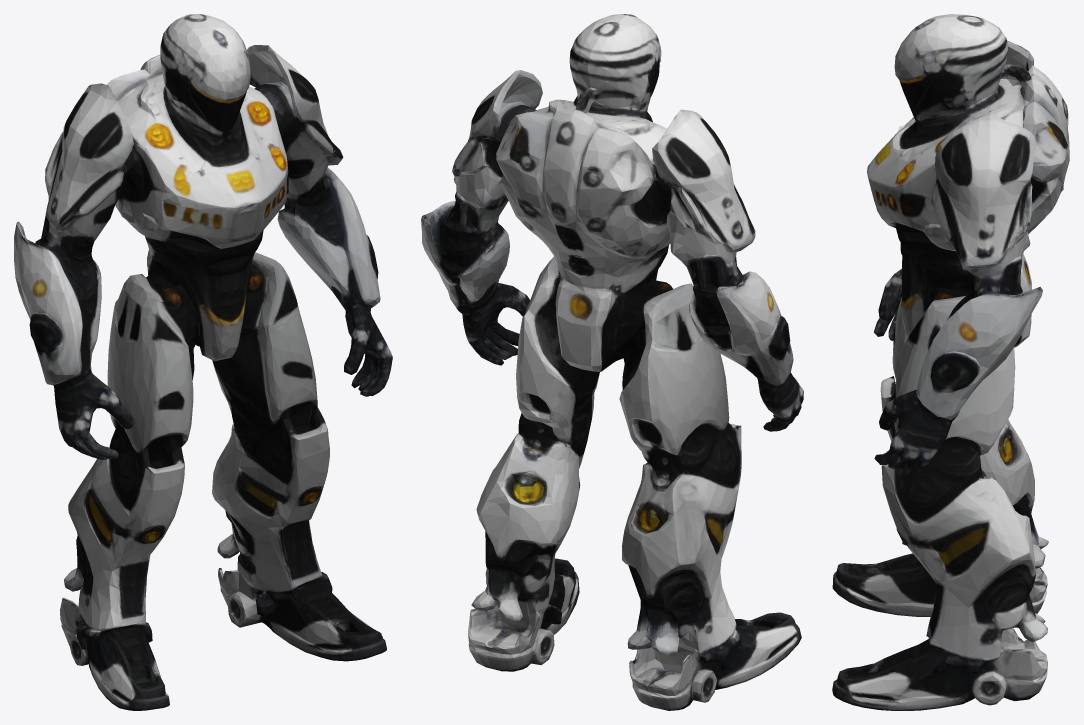
Rendered from RobotChar.fbx.
The picture shows the model from 3 angles, left to right: view 1: azimuth 30°, elevation 25°; view 2: azimuth 150°, elevation 25°; view 3: azimuth 270°, elevation 25°; orthographic projection.
Visible parts, largest first — view 1: geometry_0; view 2: geometry_0; view 3: geometry_0.
Boxes of the visible parts, x1,y1,x2,y2 form: geometry_0: (14,14,392,710); geometry_0: (421,14,803,710); geometry_0: (832,14,1069,710).
Bounding box in the file's own units: 0.5592 × 1 × 0.3397.
Materials: 1 (1 with a texture image).
